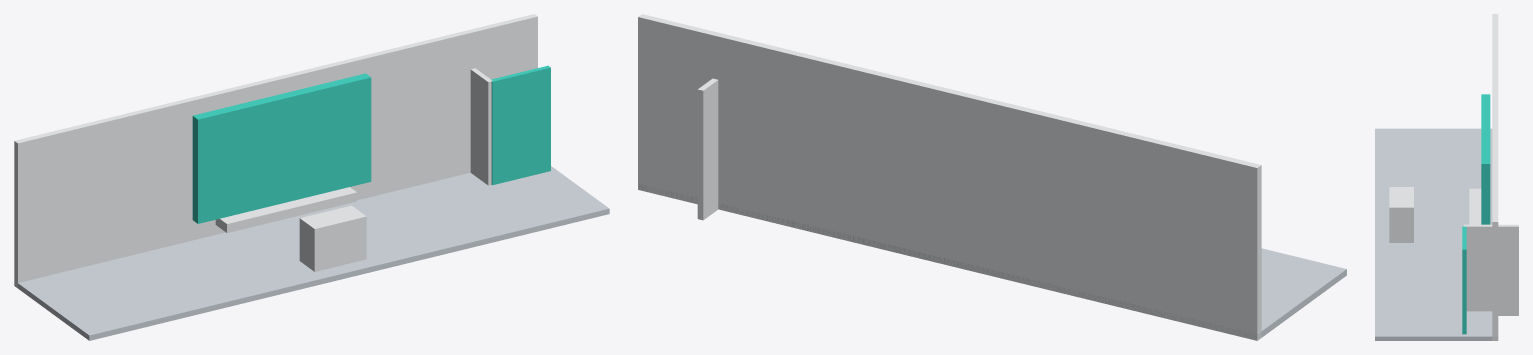
3 views of the same model, side by side, from view 1: azimuth 30°, elevation 25°; view 2: azimuth 150°, elevation 25°; view 3: azimuth 270°, elevation 25° (orthographic). The views are drawn at different scales.
Visible parts, largest first — view 1: Exhibition Booth Concept; view 2: Exhibition Booth Concept; view 3: Exhibition Booth Concept.
Boxes of the visible parts, left/top/right/bottom form: Exhibition Booth Concept: left=14, top=14, right=609, bottom=340; Exhibition Booth Concept: left=638, top=14, right=1346, bottom=340; Exhibition Booth Concept: left=1375, top=14, right=1518, bottom=340.
Size of the model in its own units: 12 by 3.2 by 3.51.
